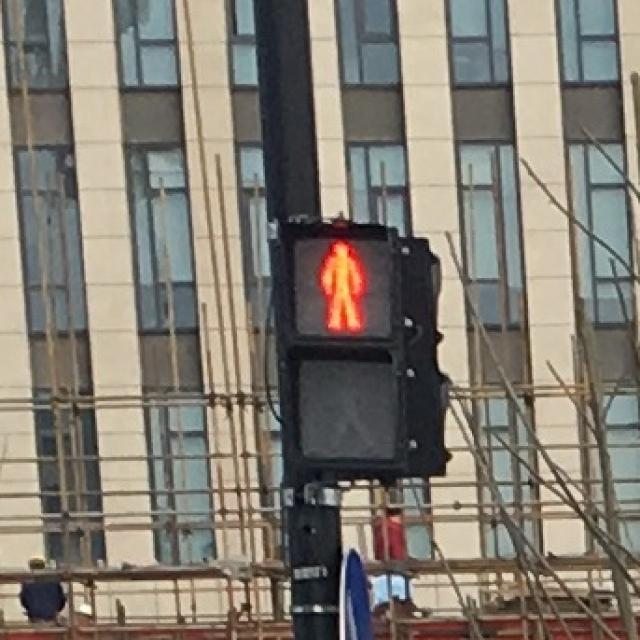red_light: (287, 232, 394, 340)
